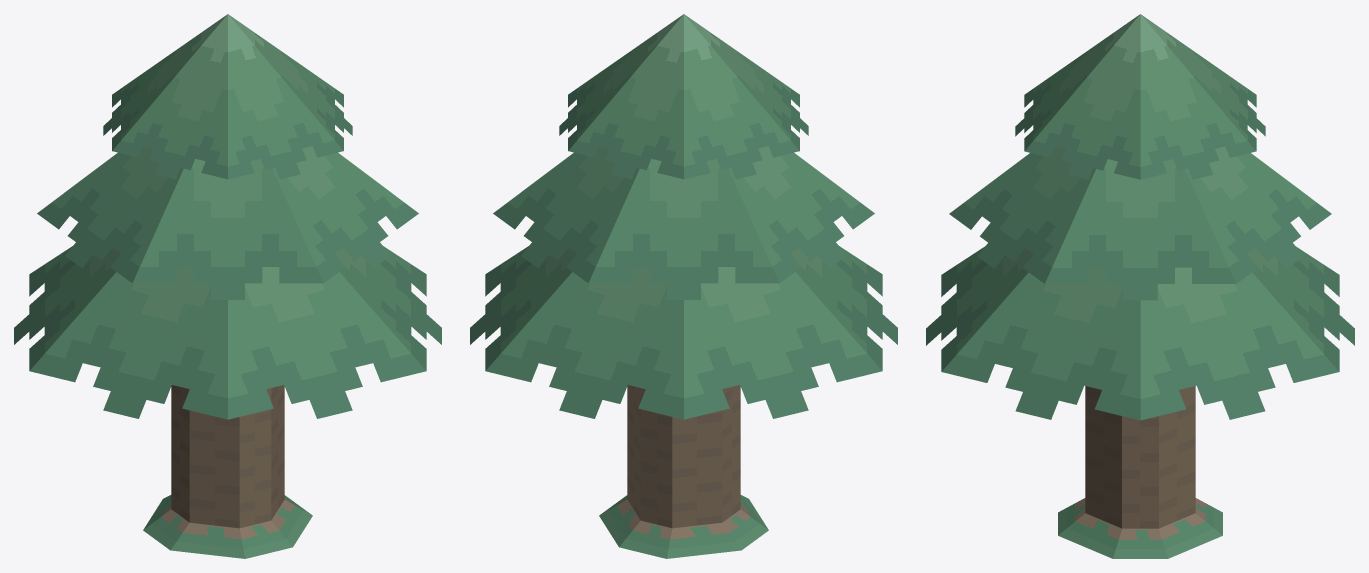
Rendered from pineTree.obj.
The picture shows the model from 3 angles, left to right: view 1: azimuth 30°, elevation 25°; view 2: azimuth 150°, elevation 25°; view 3: azimuth 270°, elevation 25°; orthographic projection.
Parts seen in each view (by area): view 1: cone, cuboid; view 2: cone, cuboid; view 3: cone, cuboid.
Part boxes in pixels (box(x1,y1,x2,y2)): cone: box(14, 14, 441, 419); cuboid: box(143, 385, 312, 558); cone: box(470, 14, 897, 419); cuboid: box(599, 385, 768, 558); cone: box(926, 14, 1354, 420); cuboid: box(1058, 386, 1222, 558).
Size of the model in its own units: 1.5 by 1.71 by 1.3.
